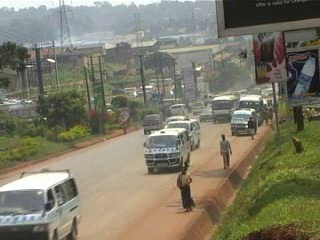Car: (140, 111, 164, 135), (198, 109, 213, 123), (190, 102, 205, 115)
